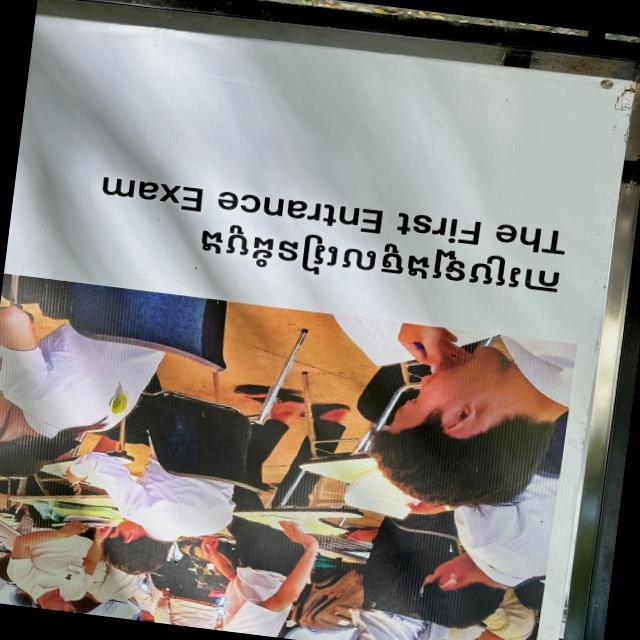Yolov11_80vkh: (190, 213, 573, 307)
